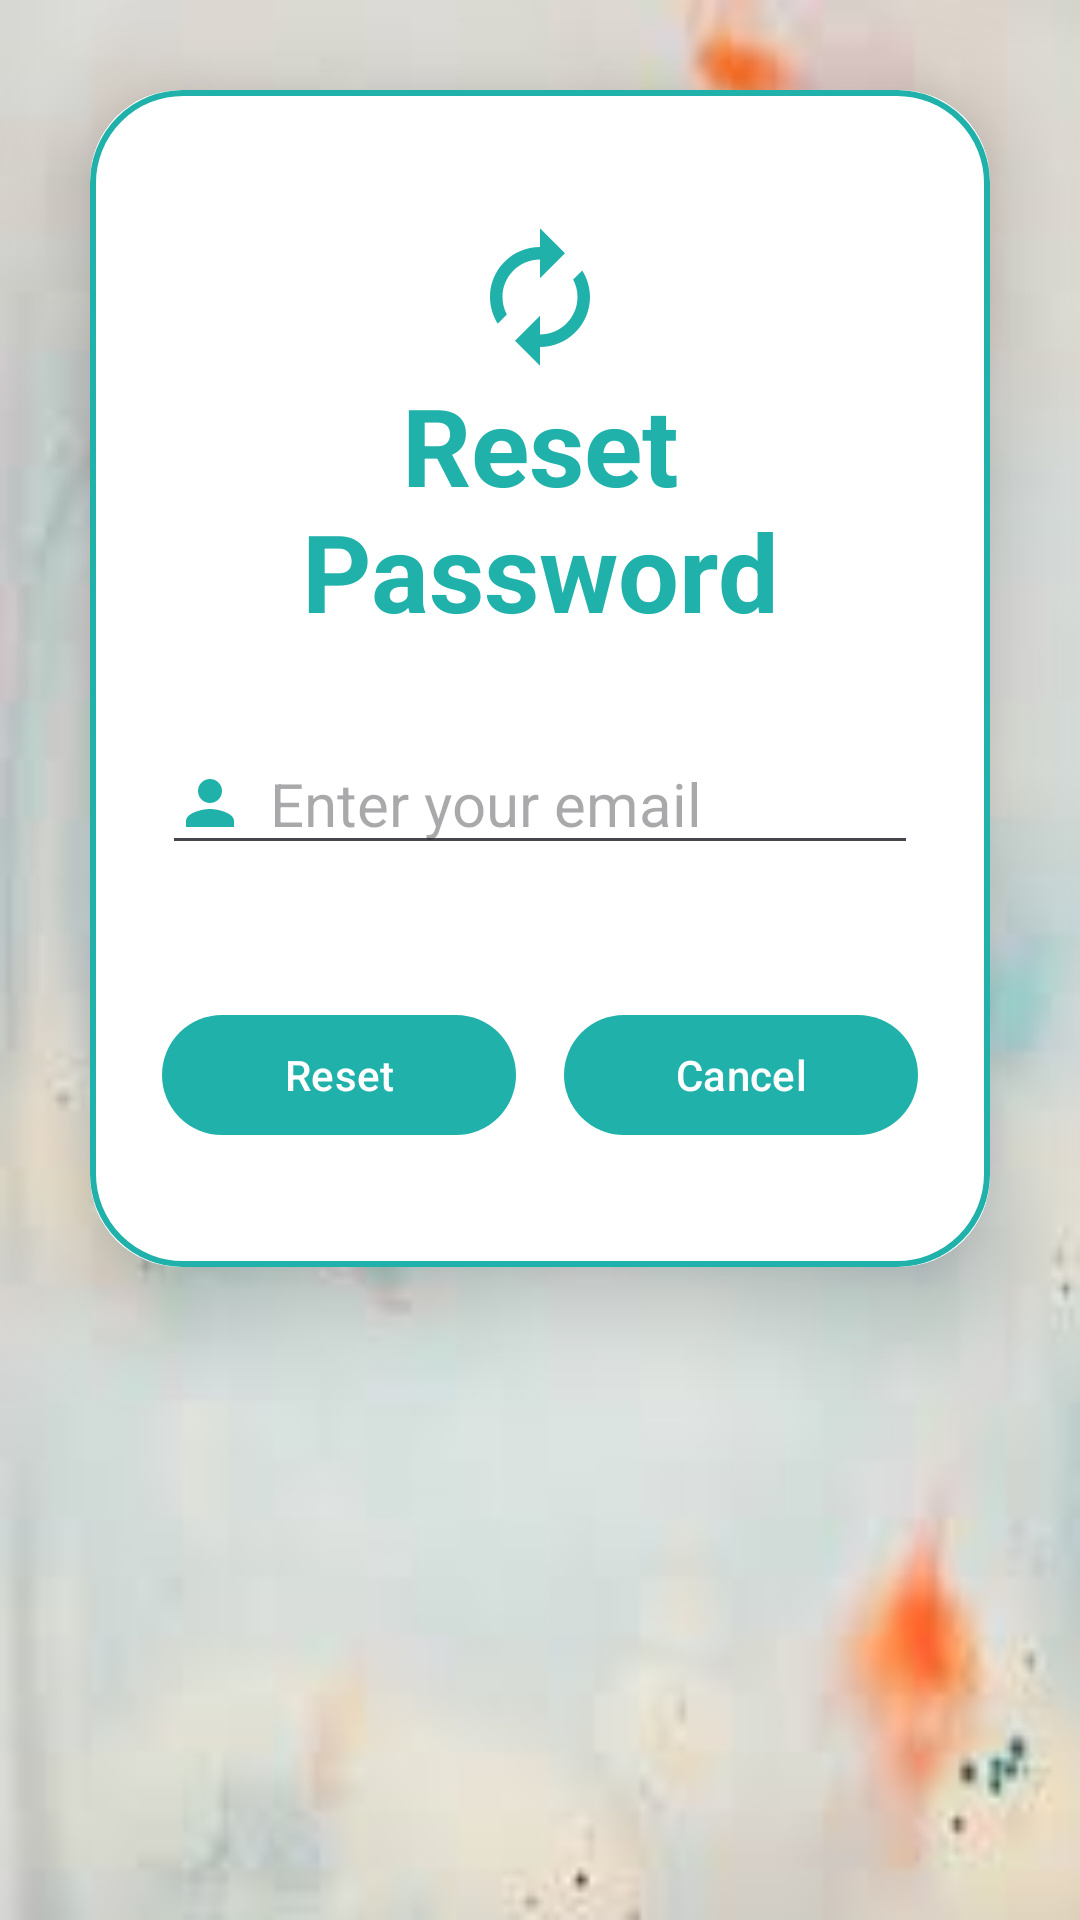

Icons on this 1080px x 1920px Android screen, each with the point to tap as [x,y]:
autorenew: [540,297]
